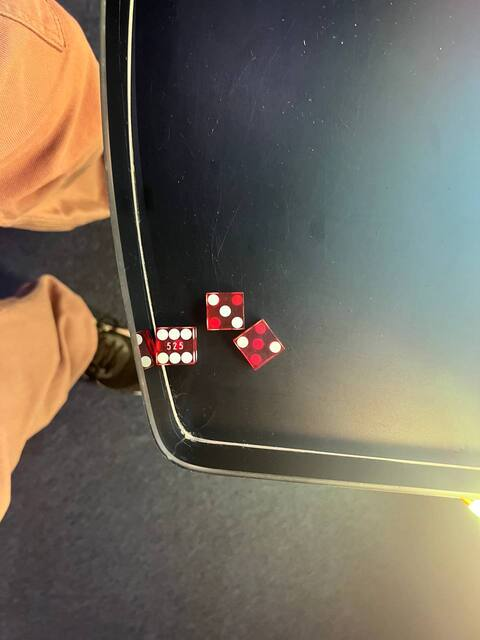six: (150, 323, 202, 368)
three: (202, 288, 248, 333)
two: (233, 329, 285, 370)
